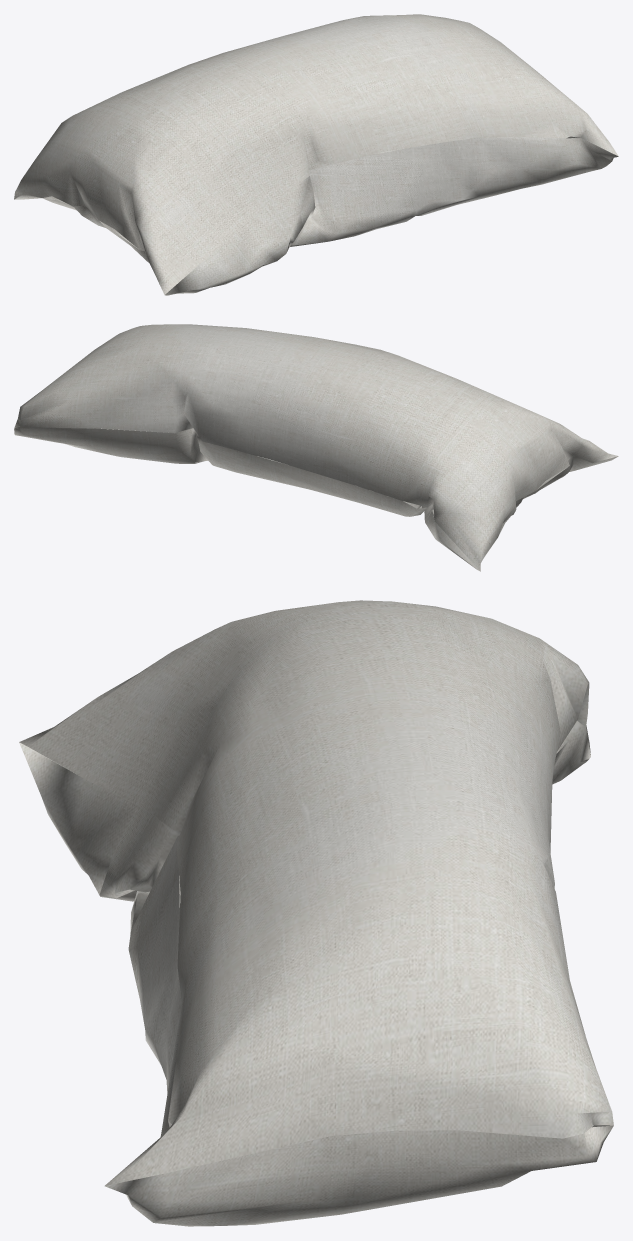
The model's file is Pillow.FBX.
3 views of the same model, one above another, from view 1: azimuth 30°, elevation 25°; view 2: azimuth 150°, elevation 25°; view 3: azimuth 270°, elevation 25° (orthographic). The views are drawn at different scales.
Visible parts, largest first — view 1: pillow; view 2: pillow; view 3: pillow.
Part boxes in pixels (left/top/right/bottom): pillow: left=14, top=14, right=618, bottom=295; pillow: left=14, top=324, right=618, bottom=571; pillow: left=19, top=600, right=613, bottom=1226.
Bounding box in the file's own units: 685 × 211 × 371.
1 material, 1 textured.
